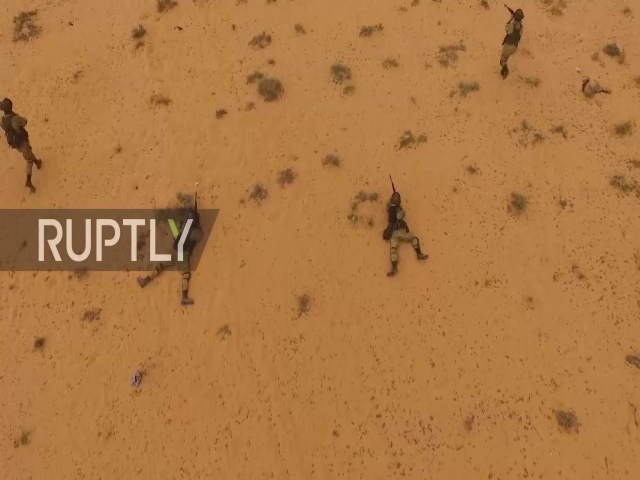person: (377, 180, 431, 278), (1, 98, 45, 197), (488, 3, 527, 82)
